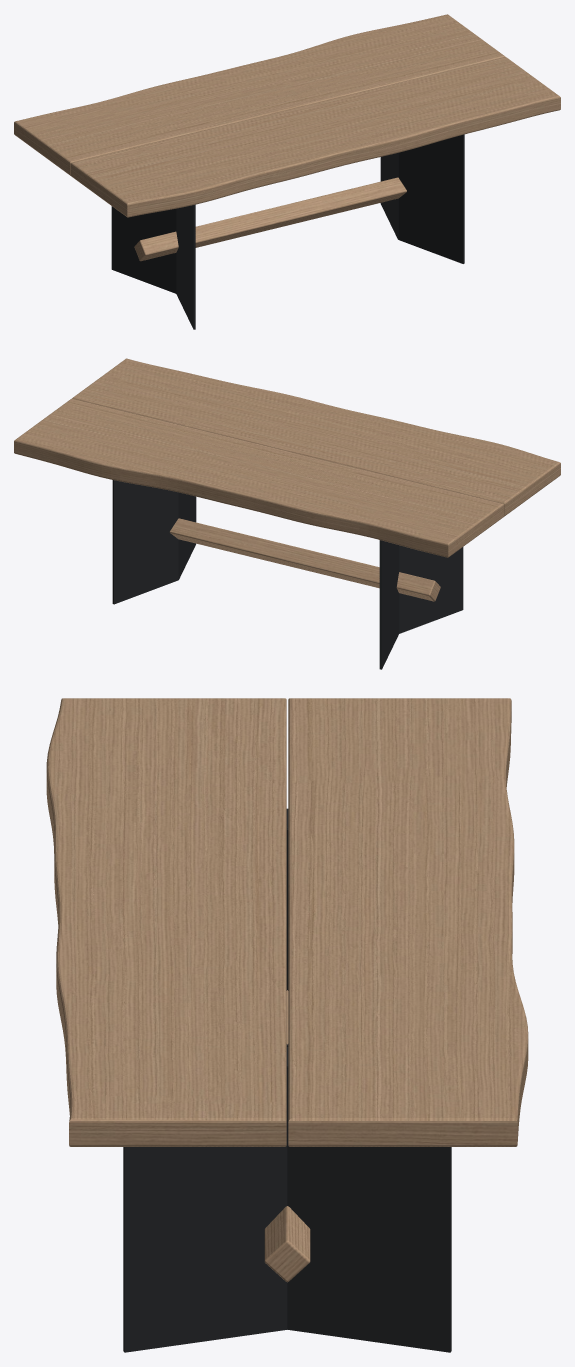
File: table-raia-220.glb
3 renders of one model, top to bottom at view 1: azimuth 30°, elevation 25°; view 2: azimuth 150°, elevation 25°; view 3: azimuth 270°, elevation 25°, orthographic. The views are drawn at different scales.
Bounding box in the file's own units: 2.2 × 0.76 × 1.06.
Materials: 2 (1 with a texture image).
